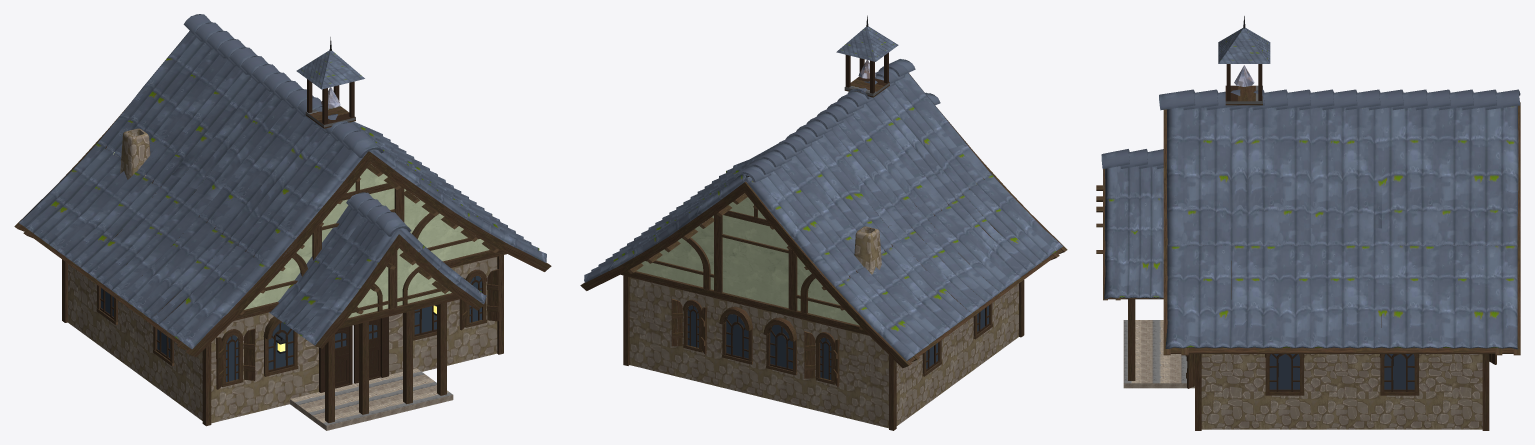
The model's file is meeting_hall.glb.
3 views of the same model, side by side, from view 1: azimuth 30°, elevation 25°; view 2: azimuth 150°, elevation 25°; view 3: azimuth 270°, elevation 25° (orthographic). The views are drawn at different scales.
Visible parts, largest first — view 1: Roof_RoundTiles_8x10.045, Roof_RoundTiles_4x4.054, Roof_Front_Brick8.046, PorchFloor.048, Roof_Front_Brick4.055, Wall_UnevenBrick_Window_Thin_Round.012, Wall_UnevenBrick_Window_Wide_Round.004, Wall_UnevenBrick_Window_Thin_Round.001, Wall_UnevenBrick_Straight.030, Wall_UnevenBrick_Straight.027, Window_Wide_Round1.005, Wall_UnevenBrick_Door_Round.006 (+23 smaller); view 2: Roof_RoundTiles_8x10.045, Roof_Front_Brick8.047, Wall_UnevenBrick_Straight.015, Wall_UnevenBrick_Straight.026, Wall_UnevenBrick_Window_Wide_Round.021, Wall_UnevenBrick_Window_Thin_Round.016, Wall_UnevenBrick_Window_Wide_Round.019, Wall_UnevenBrick_Window_Thin_Round.023, Window_Wide_Round1.020, Window_Wide_Round1.022, Wall_UnevenBrick_Straight.030, Wall_UnevenBrick_Straight.033 (+14 smaller); view 3: Roof_RoundTiles_8x10.045, Roof_RoundTiles_4x4.054, Wall_UnevenBrick_Straight.037, Wall_UnevenBrick_Straight.034, Wall_UnevenBrick_Straight.040, PorchFloor.048, Wall_UnevenBrick_Window_Wide_Round.035, Wall_UnevenBrick_Window_Wide_Round.038, Window_Wide_Round1.039, Window_Wide_Round1.036, CoteRoof.062, Beam.052 (+3 smaller).
Part boxes in pixels (box(x1,y1,x2,y2)): Roof_RoundTiles_8x10.045: box(14, 14, 551, 356); Roof_RoundTiles_4x4.054: box(269, 192, 486, 348); Roof_Front_Brick8.046: box(233, 164, 506, 320); PorchFloor.048: box(290, 368, 453, 430); Roof_Front_Brick4.055: box(339, 248, 460, 328); Wall_UnevenBrick_Window_Thin_Round.012: box(450, 256, 497, 364); Wall_UnevenBrick_Window_Wide_Round.004: box(256, 312, 304, 412); Wall_UnevenBrick_Window_Thin_Round.001: box(211, 315, 255, 423); Wall_UnevenBrick_Straight.030: box(122, 304, 150, 382); Wall_UnevenBrick_Straight.027: box(68, 264, 94, 341); Window_Wide_Round1.005: box(263, 316, 298, 376); Wall_UnevenBrick_Door_Round.006: box(304, 313, 401, 395); Roof_RoundTiles_8x10.045: box(580, 59, 1067, 368); Roof_Front_Brick8.047: box(620, 193, 868, 335); Wall_UnevenBrick_Straight.015: box(629, 277, 671, 375); Wall_UnevenBrick_Straight.026: box(848, 330, 888, 428); Wall_UnevenBrick_Window_Wide_Round.021: box(759, 308, 804, 407); Wall_UnevenBrick_Window_Thin_Round.016: box(671, 287, 715, 385); Wall_UnevenBrick_Window_Wide_Round.019: box(715, 298, 759, 396); Wall_UnevenBrick_Window_Thin_Round.023: box(803, 319, 848, 418); Window_Wide_Round1.020: box(719, 306, 752, 364); Window_Wide_Round1.022: box(763, 317, 797, 375); Wall_UnevenBrick_Straight.030: box(944, 320, 969, 391); Wall_UnevenBrick_Straight.033: box(995, 283, 1018, 353); Roof_RoundTiles_8x10.045: box(1159, 89, 1520, 355); Roof_RoundTiles_4x4.054: box(1101, 149, 1163, 300); Wall_UnevenBrick_Straight.037: box(1313, 354, 1370, 429); Wall_UnevenBrick_Straight.034: box(1201, 354, 1255, 429); Wall_UnevenBrick_Straight.040: box(1428, 354, 1482, 429); PorchFloor.048: box(1123, 320, 1194, 388); Wall_UnevenBrick_Window_Wide_Round.035: box(1256, 354, 1313, 429); Wall_UnevenBrick_Window_Wide_Round.038: box(1371, 354, 1428, 429); Window_Wide_Round1.039: box(1379, 354, 1419, 395); Window_Wide_Round1.036: box(1265, 354, 1304, 395); CoteRoof.062: box(1218, 28, 1270, 63); Beam.052: box(1128, 299, 1135, 380).
Bounding box in the file's own units: 14.93 × 13.16 × 14.75.
9 materials, 6 textured.
